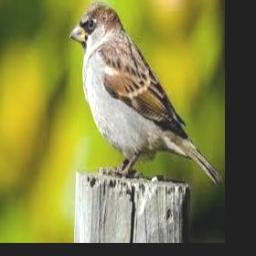Sparrow: (69, 2, 222, 183)
